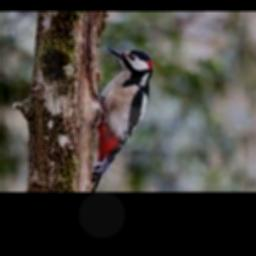Woodpecker: (91, 46, 152, 192)
